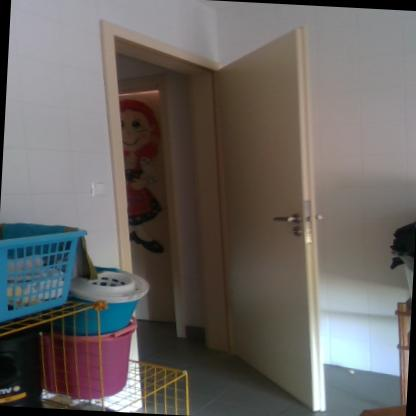semi: (94, 7, 354, 416)
